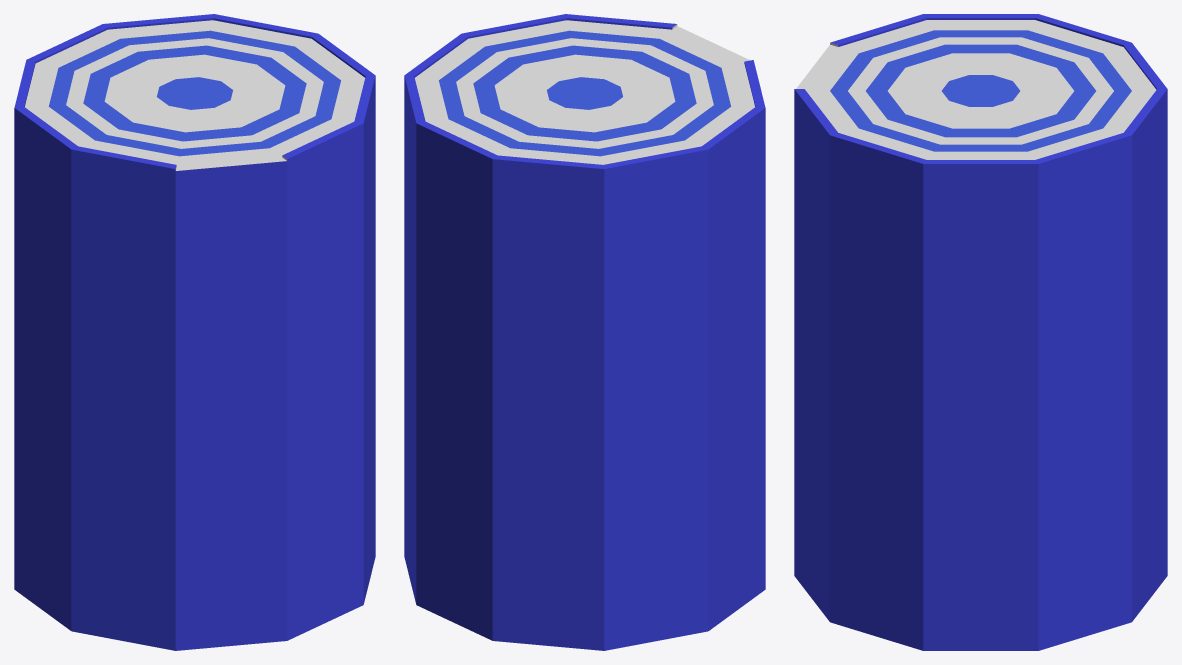
File: boss platform.fbx
The picture shows the model from 3 angles, left to right: view 1: azimuth 30°, elevation 25°; view 2: azimuth 150°, elevation 25°; view 3: azimuth 270°, elevation 25°; orthographic projection.
Parts seen in each view (by area): view 1: Circle; view 2: Circle; view 3: Circle.
Boxes of the visible parts, box(x1,y1,x2,y2) form: Circle: box(14, 14, 375, 650); Circle: box(404, 14, 765, 650); Circle: box(794, 14, 1167, 650).
Bounding box in the file's own units: 190 × 288 × 200.
